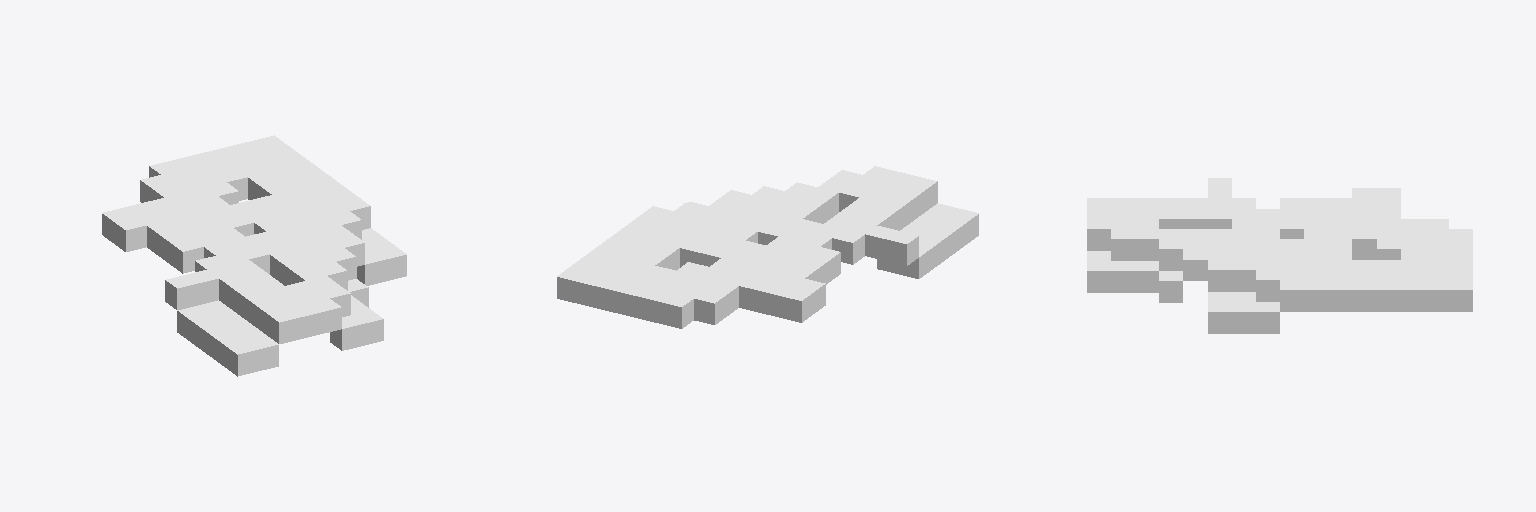
The model's file is stairs_shard-11.obj.
3 renders of one model, left to right at view 1: azimuth 30°, elevation 25°; view 2: azimuth 150°, elevation 25°; view 3: azimuth 270°, elevation 25°, orthographic.
Visible parts, largest first — view 1: object 1; view 2: object 1; view 3: object 1.
Boxes of the visible parts, x1,y1,x2,y2 form: object 1: [102, 135, 406, 376]; object 1: [557, 166, 978, 328]; object 1: [1087, 178, 1472, 333].
Bounding box in the file's own units: 1.1 × 0.2 × 1.6.